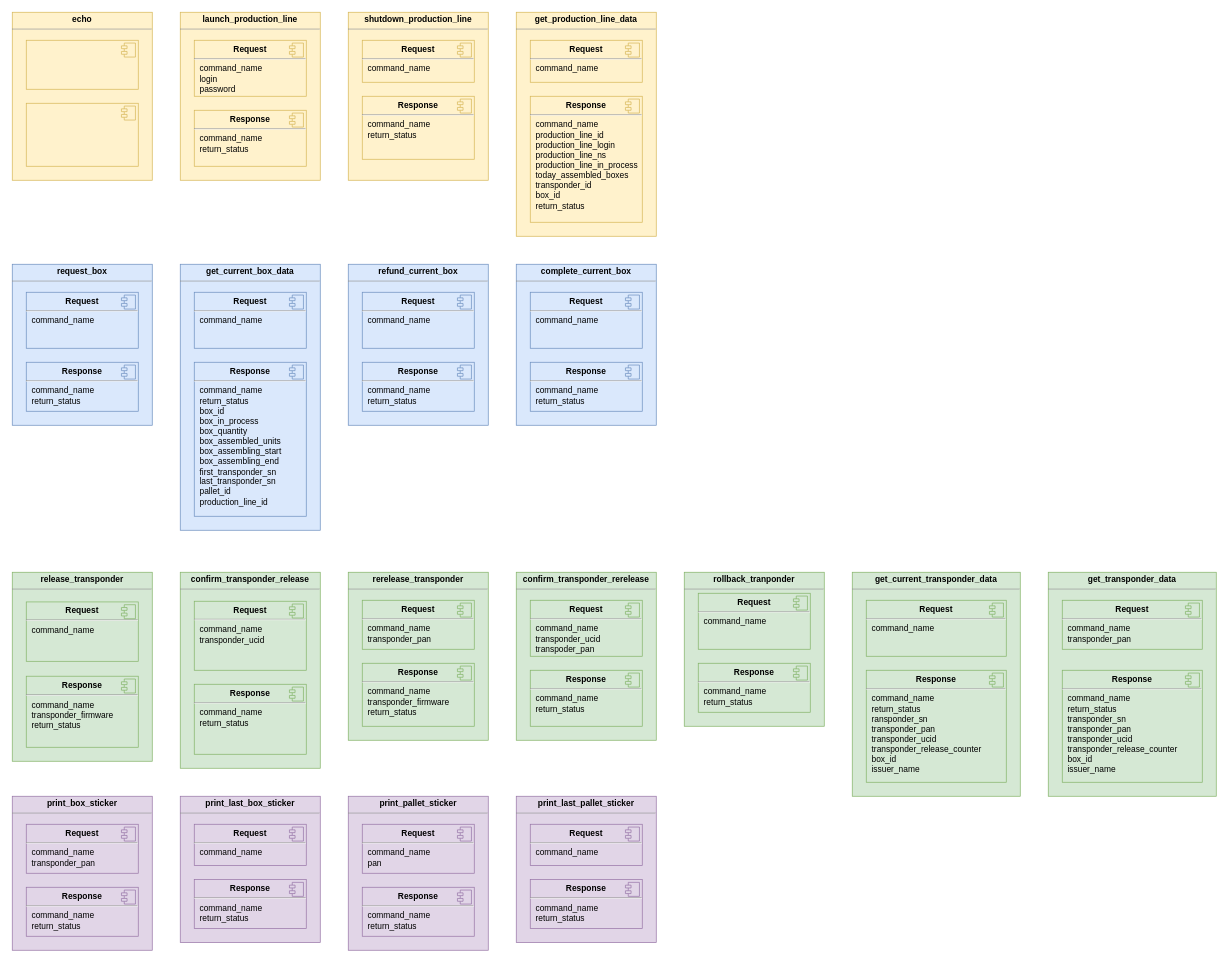
Image size: 1229x963. Some labels were removed from this diagram. The shapes that lost their labels are listed below. From the top down, each one's centre as x and y in pixels, then its label:
[82,64]: Request command_name data
[82,134]: Response command_name data return_status
